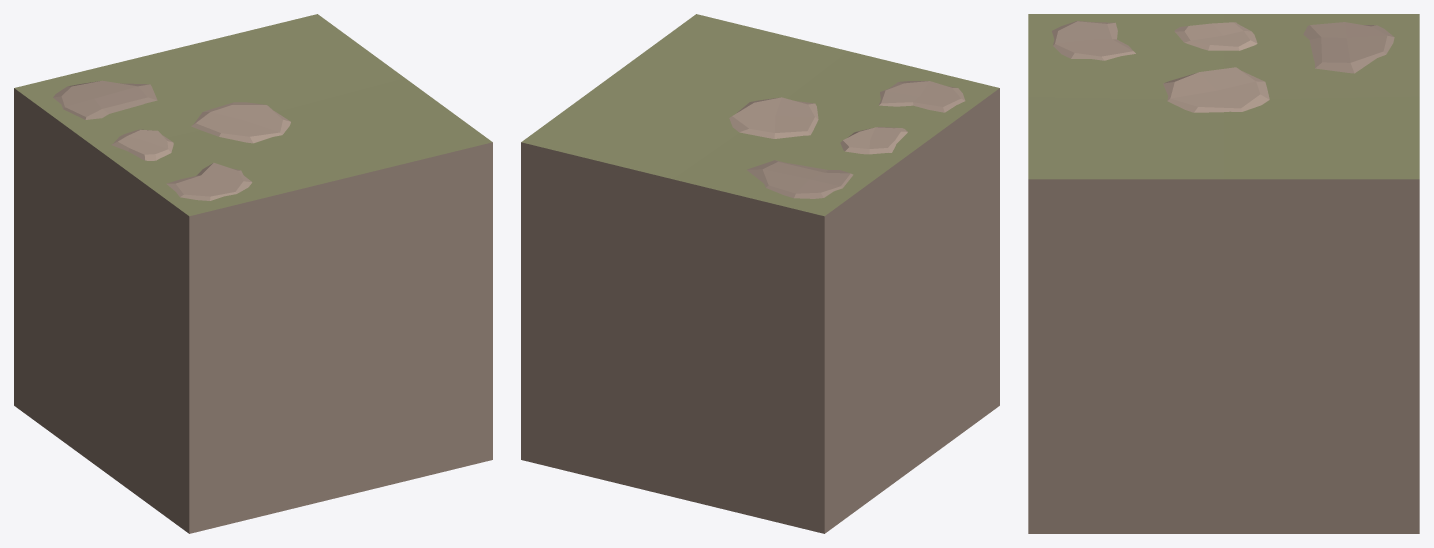
The model's file is Floor_2-3.fbx.
3 views of the same model, side by side, from view 1: azimuth 30°, elevation 25°; view 2: azimuth 150°, elevation 25°; view 3: azimuth 270°, elevation 25° (orthographic). The views are drawn at different scales.
Parts seen in each view (by area): view 1: Floor_2-3; view 2: Floor_2-3; view 3: Floor_2-3.
Part boxes in pixels (left/top/right/bottom): Floor_2-3: left=14, top=14, right=492, bottom=533; Floor_2-3: left=521, top=14, right=999, bottom=533; Floor_2-3: left=1028, top=14, right=1419, bottom=533.
Bounding box in the file's own units: 1 × 1 × 1.01.
